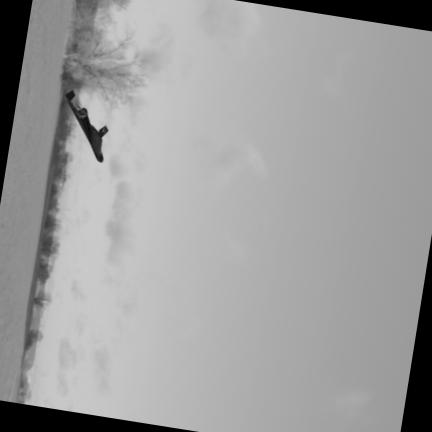Shahed: (65, 92, 107, 162)
